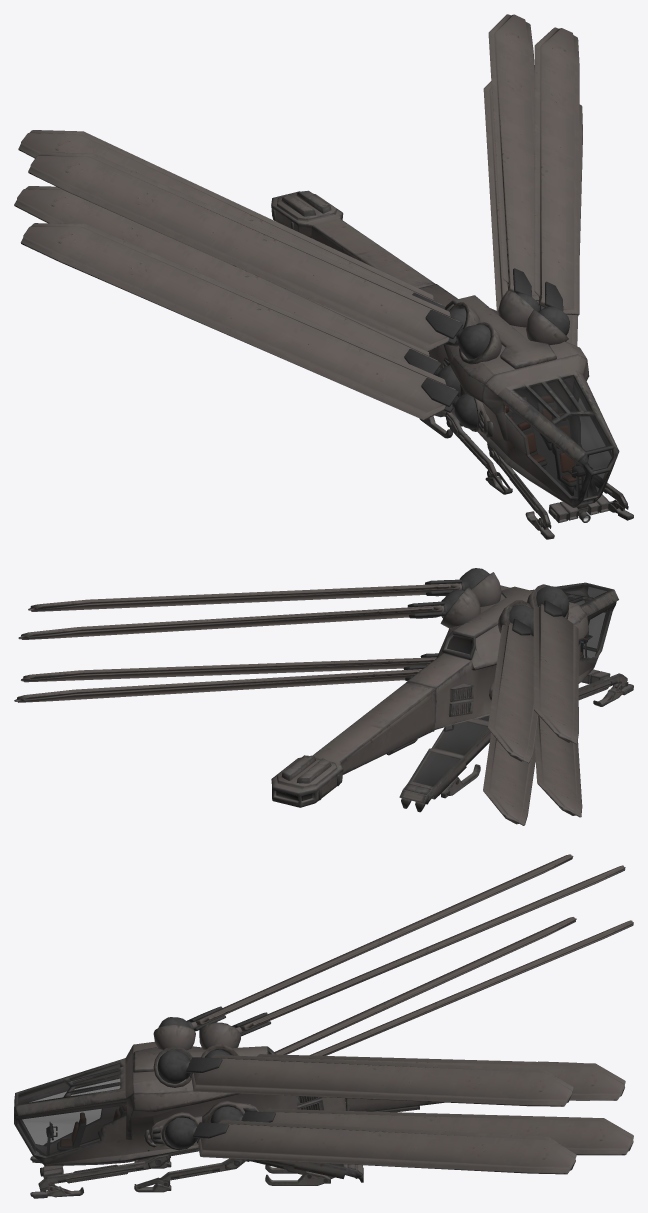
Rendered from chair-transformed.glb.
The picture shows the model from 3 angles, top to bottom: view 1: azimuth 30°, elevation 25°; view 2: azimuth 150°, elevation 25°; view 3: azimuth 270°, elevation 25°; orthographic projection. The views are drawn at different scales.
Parts seen in each view (by area): view 1: Orni, Orni1; view 2: Orni, Orni1; view 3: Orni, Orni1.
Part boxes in pixels (x1,y1,x2,y2): Orni: (14, 14, 612, 503); Orni1: (271, 190, 633, 539); Orni: (14, 568, 610, 825); Orni1: (271, 572, 633, 812); Orni: (18, 854, 633, 1174); Orni1: (14, 1023, 576, 1198).
Bounding box in the file's own units: 17.64 × 6.83 × 18.29.
3 materials, 3 textured.
